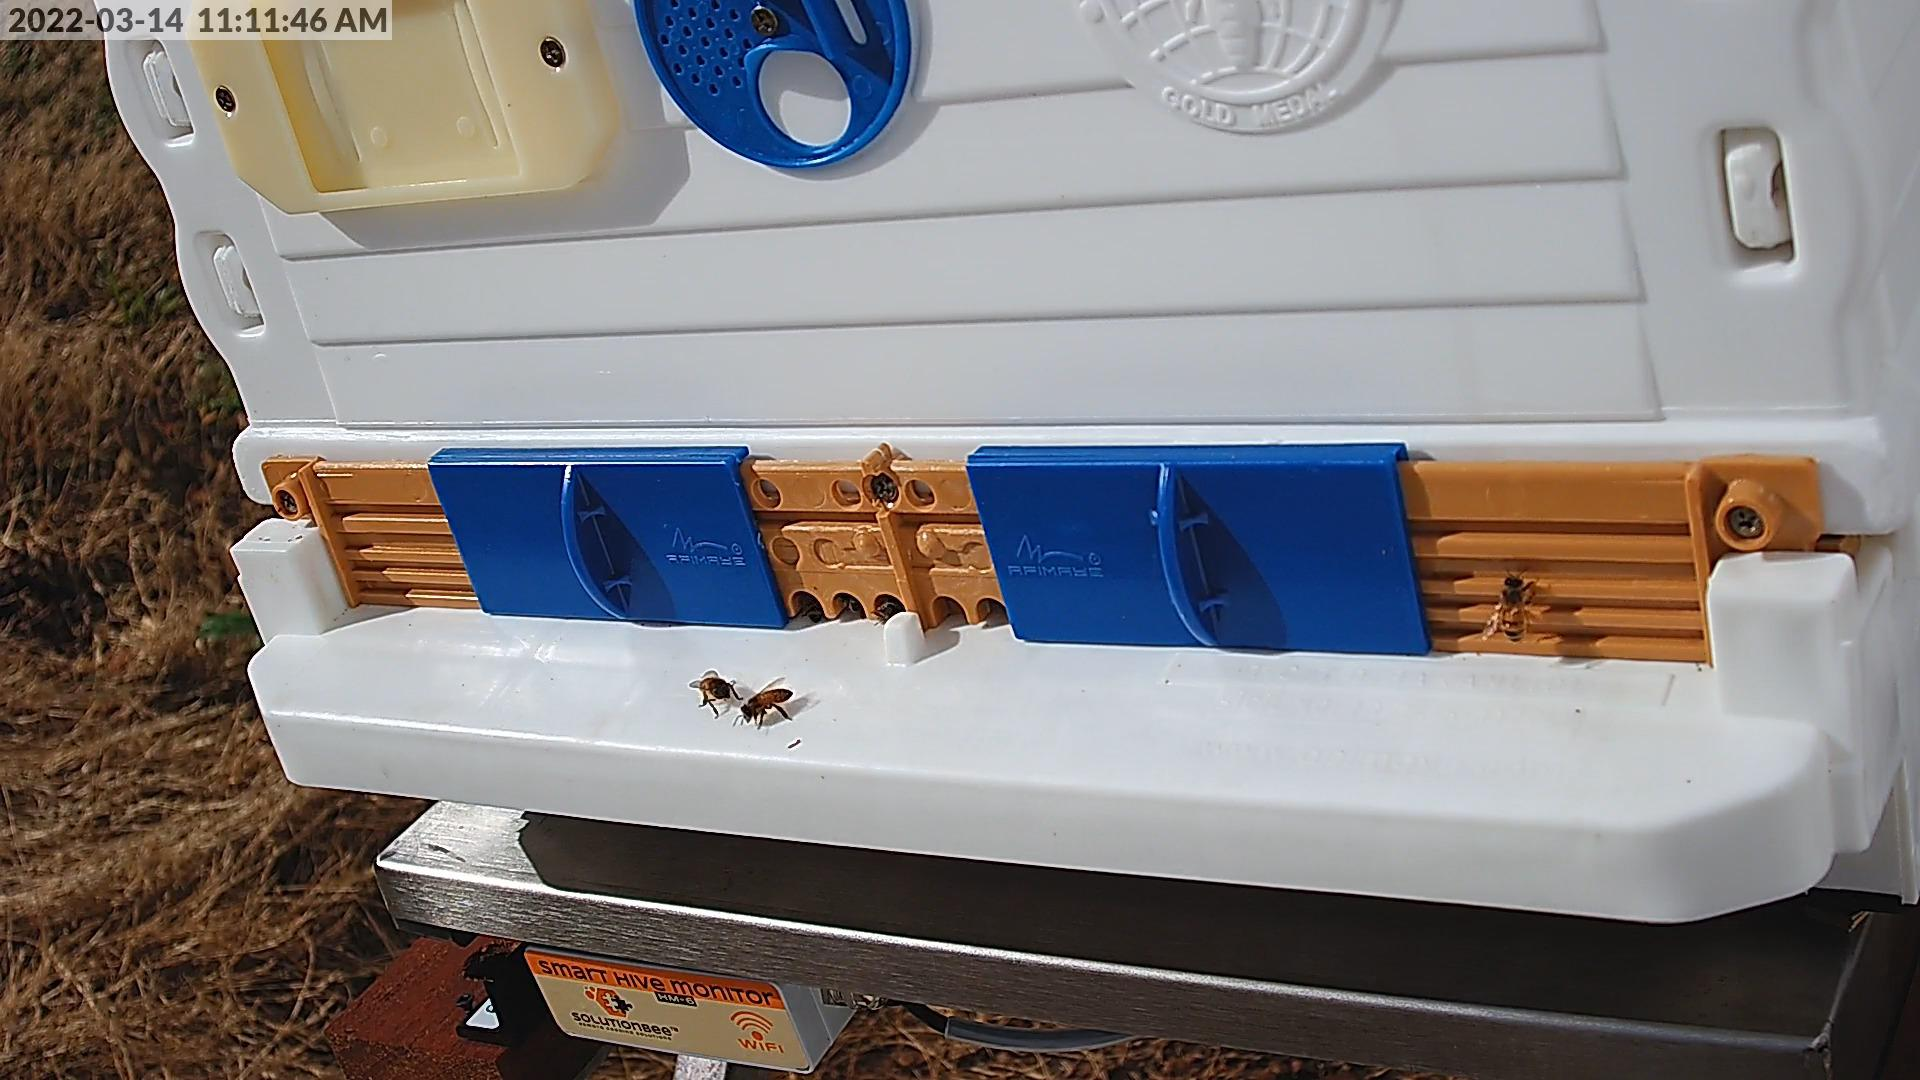bee: (1503, 575, 1528, 642), (742, 688, 794, 720), (699, 678, 732, 702), (878, 596, 903, 618)
